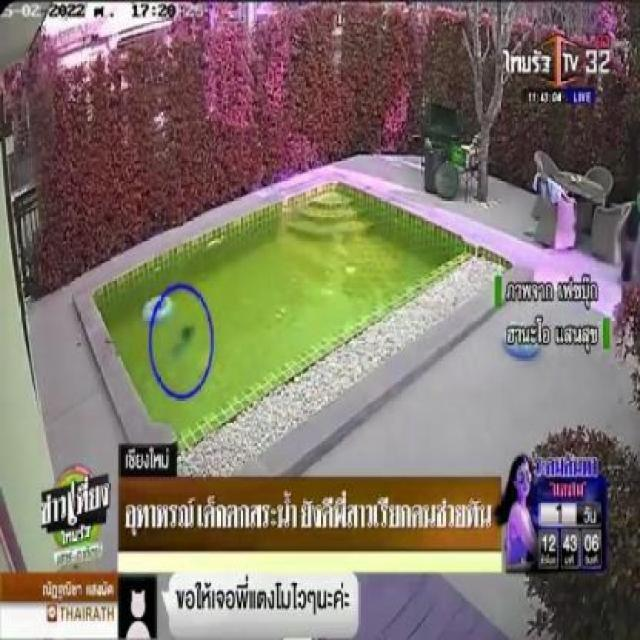drowning: (162, 320, 200, 375)
